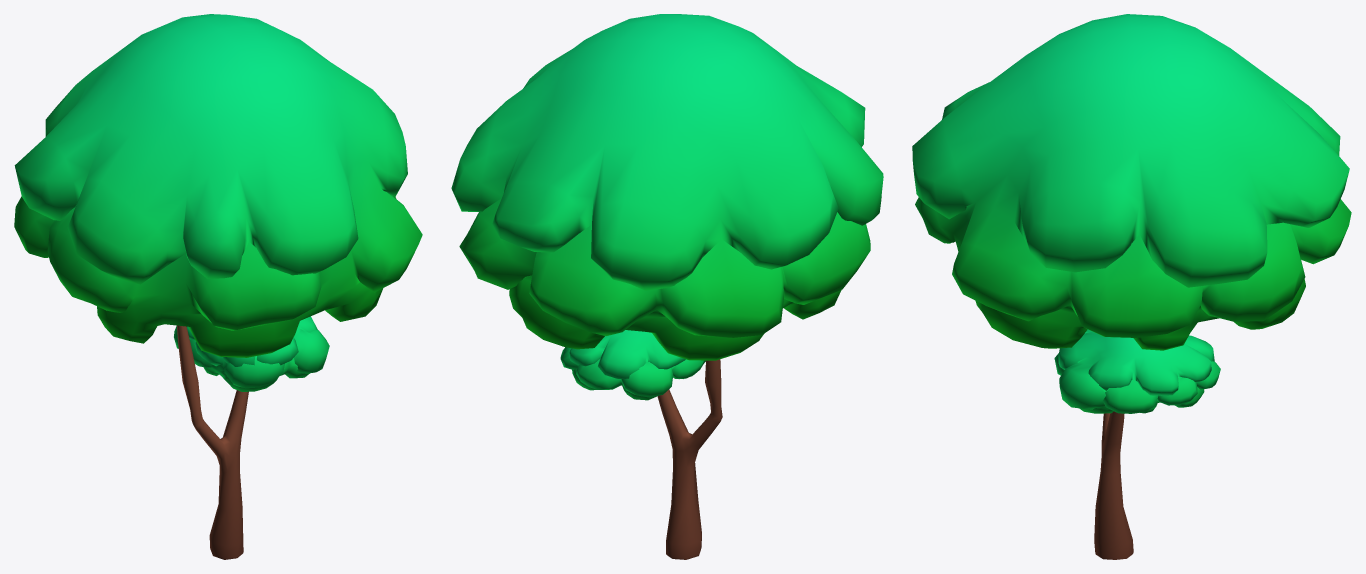
The model's file is Tree_03.fbx.
The picture shows the model from 3 angles, left to right: view 1: azimuth 30°, elevation 25°; view 2: azimuth 150°, elevation 25°; view 3: azimuth 270°, elevation 25°; orthographic projection. The views are drawn at different scales.
Visible parts, largest first — view 1: Tree_03; view 2: Tree_03; view 3: Tree_03.
Part boxes in pixels (box(x1,y1,x2,y2)): Tree_03: box(14, 14, 422, 559); Tree_03: box(451, 14, 883, 559); Tree_03: box(912, 14, 1351, 559).
Size of the model in its own units: 266 by 387 by 293.
